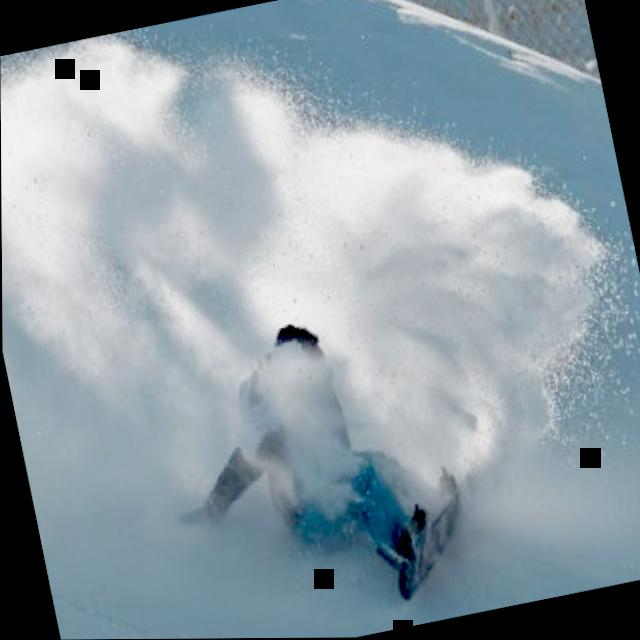Fall-Detected: (134, 271, 477, 635)
